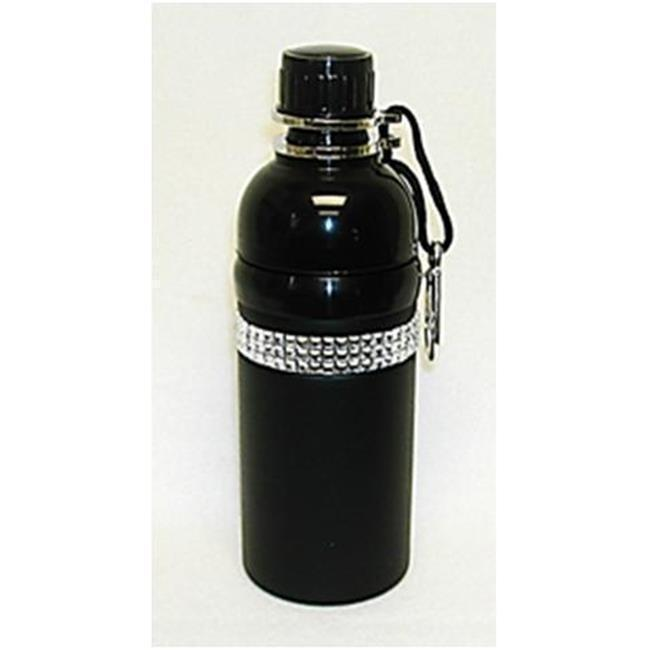gym bottle: (228, 37, 426, 606)
